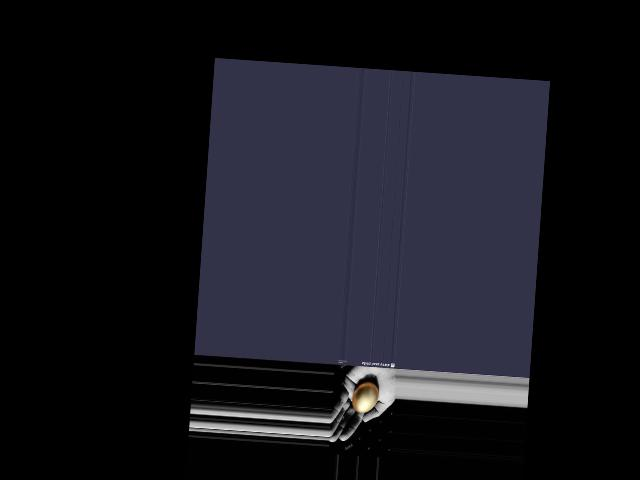egg: (351, 381, 378, 414)
